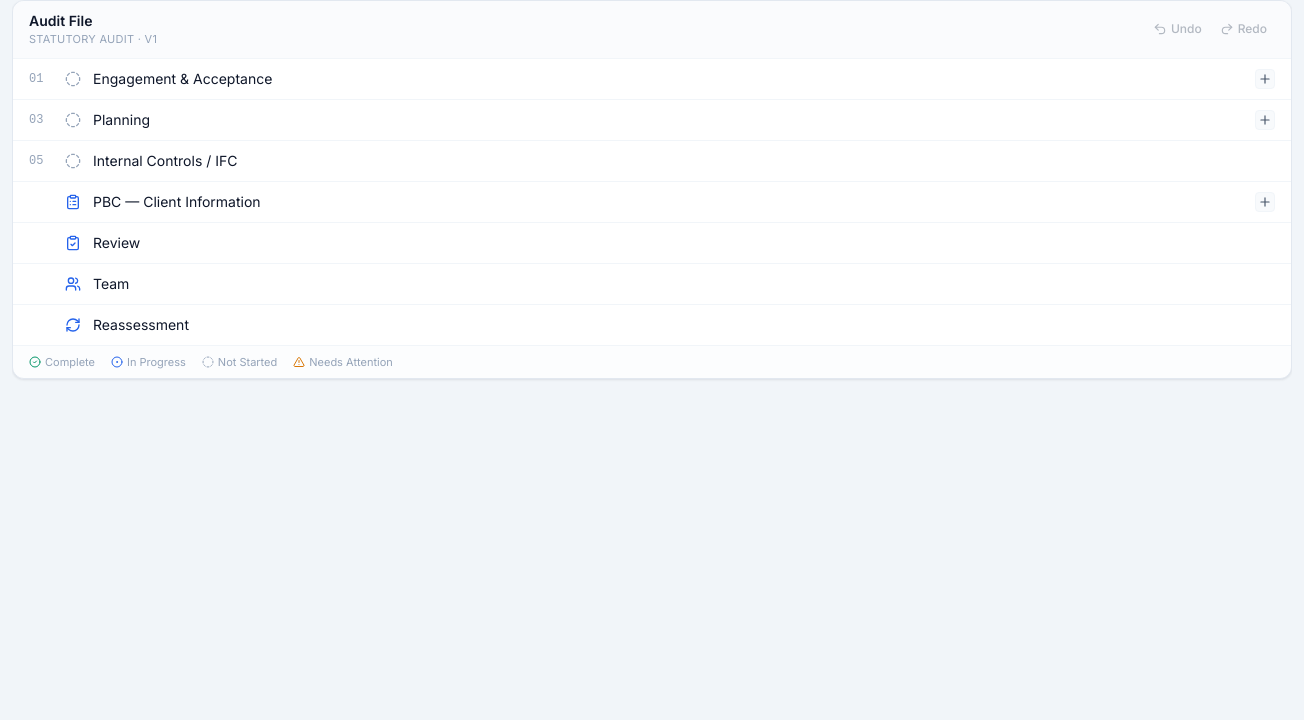
Test: audit-file phases expand in place › opens a phase under its row with +, keeps others independent, collapses on second click
Expected: the text "workspace:acceptance" is not shown
Click the button "01 Engagement & Acceptance": (183,78) top-left (13, 58), bottom-right (1291, 98)
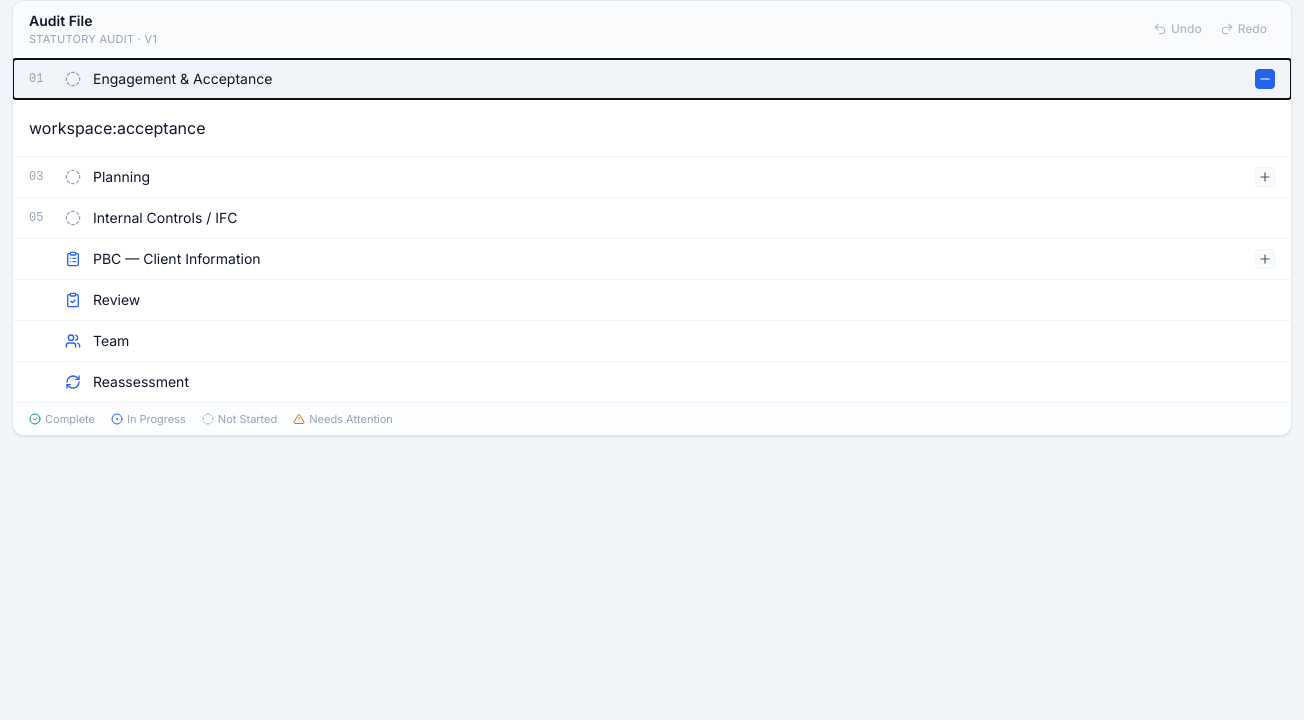
Click the button "03 Planning": (121,176) top-left (13, 156), bottom-right (1291, 196)
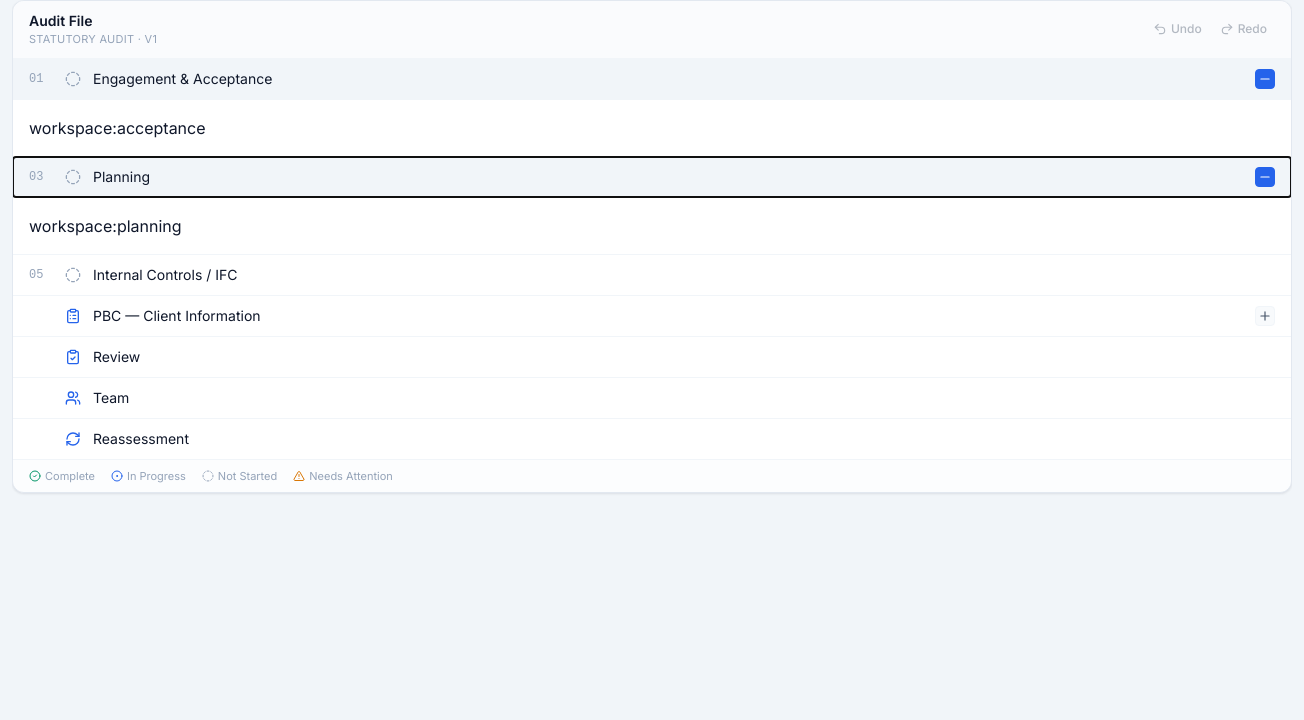
Result: the text "workspace:acceptance" is shown at top-left (29, 118), bottom-right (206, 138)
Result: the text "workspace:planning" is shown at top-left (29, 216), bottom-right (182, 236)
Click the button "01 Engagement & Acceptance": (183,78) top-left (13, 58), bottom-right (1291, 98)
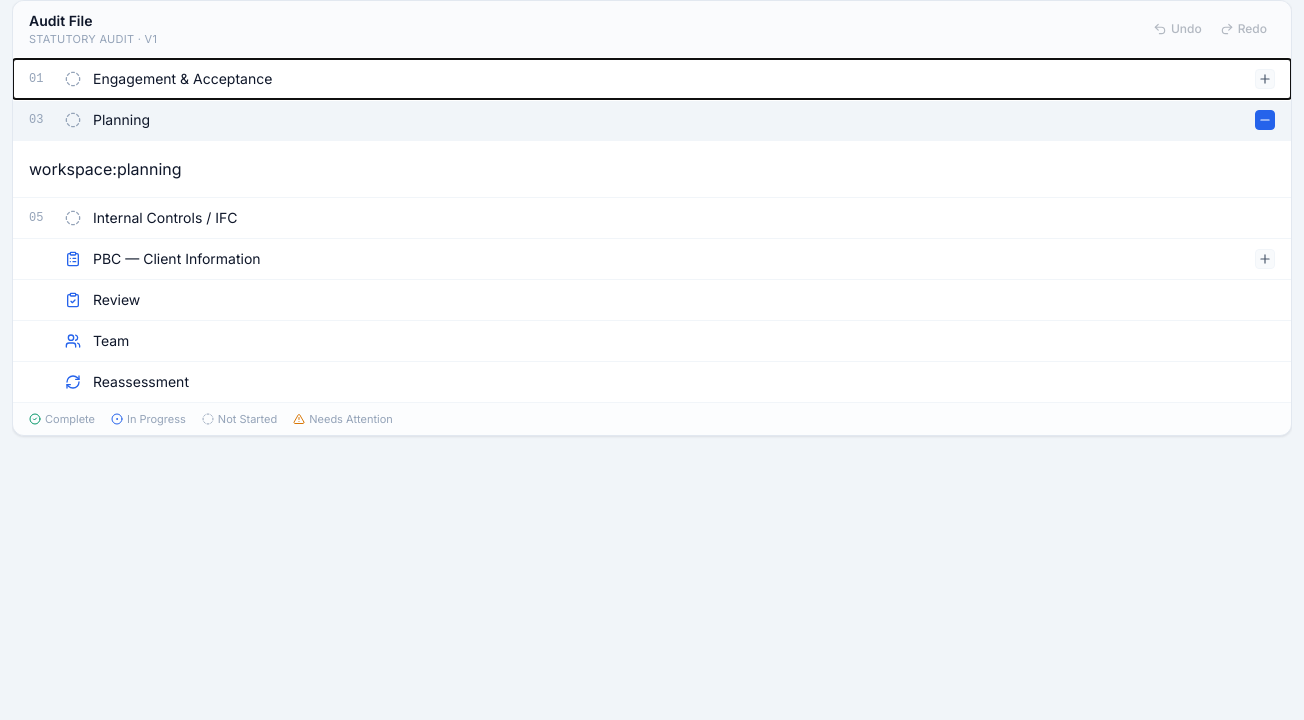
Expected: the button "05 Internal Controls / IFC" is disabled, top-left (13, 198), bottom-right (1291, 238)
Result: the text "workspace:planning" is shown at top-left (29, 158), bottom-right (182, 178)
Result: the text "workspace:acceptance" is gone
